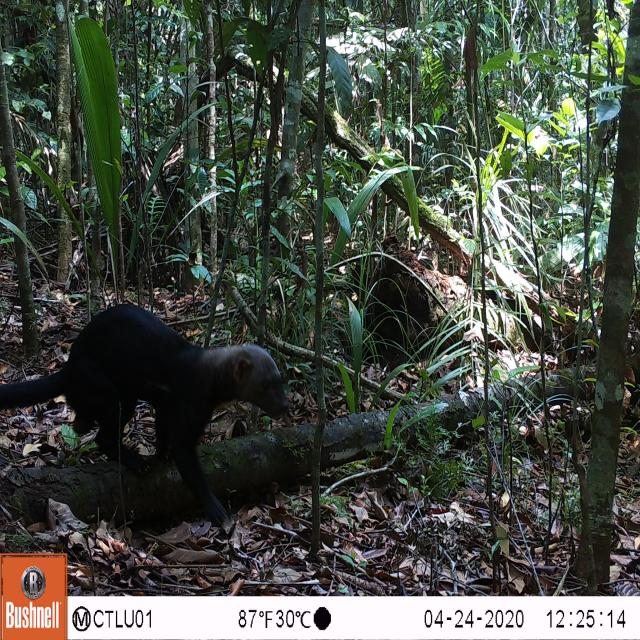Tayra: (1, 292, 292, 458)
